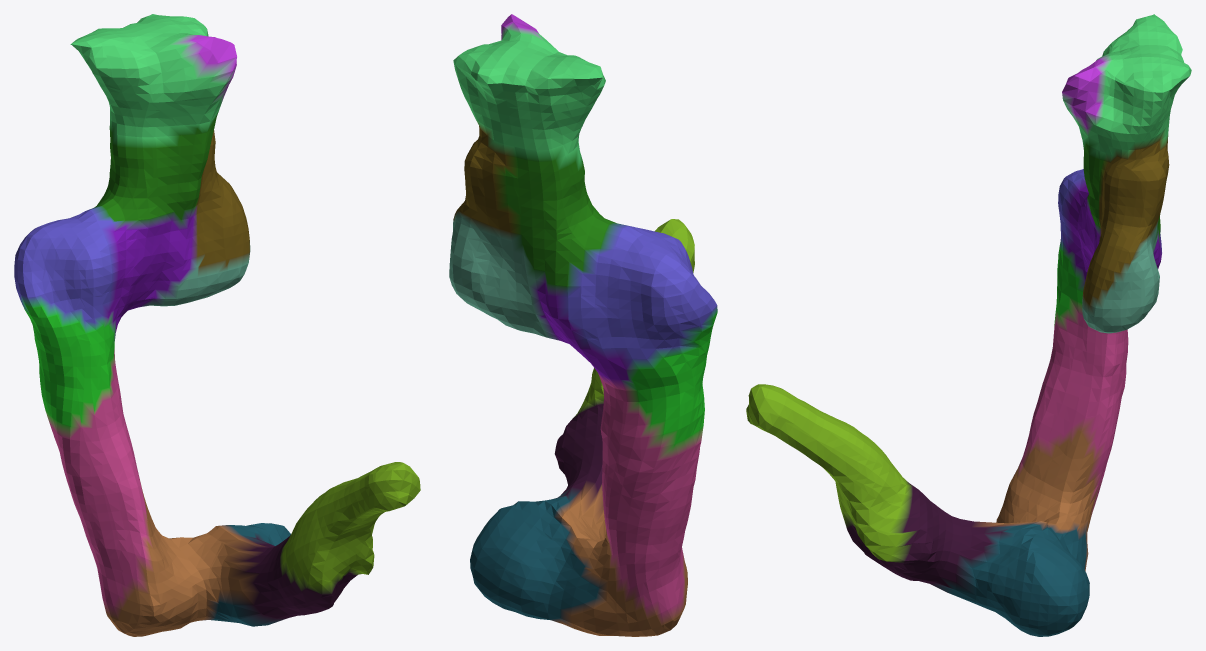
The model's file is fg-00030-geo-color.obj.
3 views of the same model, side by side, from view 1: azimuth 30°, elevation 25°; view 2: azimuth 150°, elevation 25°; view 3: azimuth 270°, elevation 25° (orthographic). The views are drawn at different scales.
Bounding box in the file's own units: 0.122 × 0.2685 × 0.1937.
